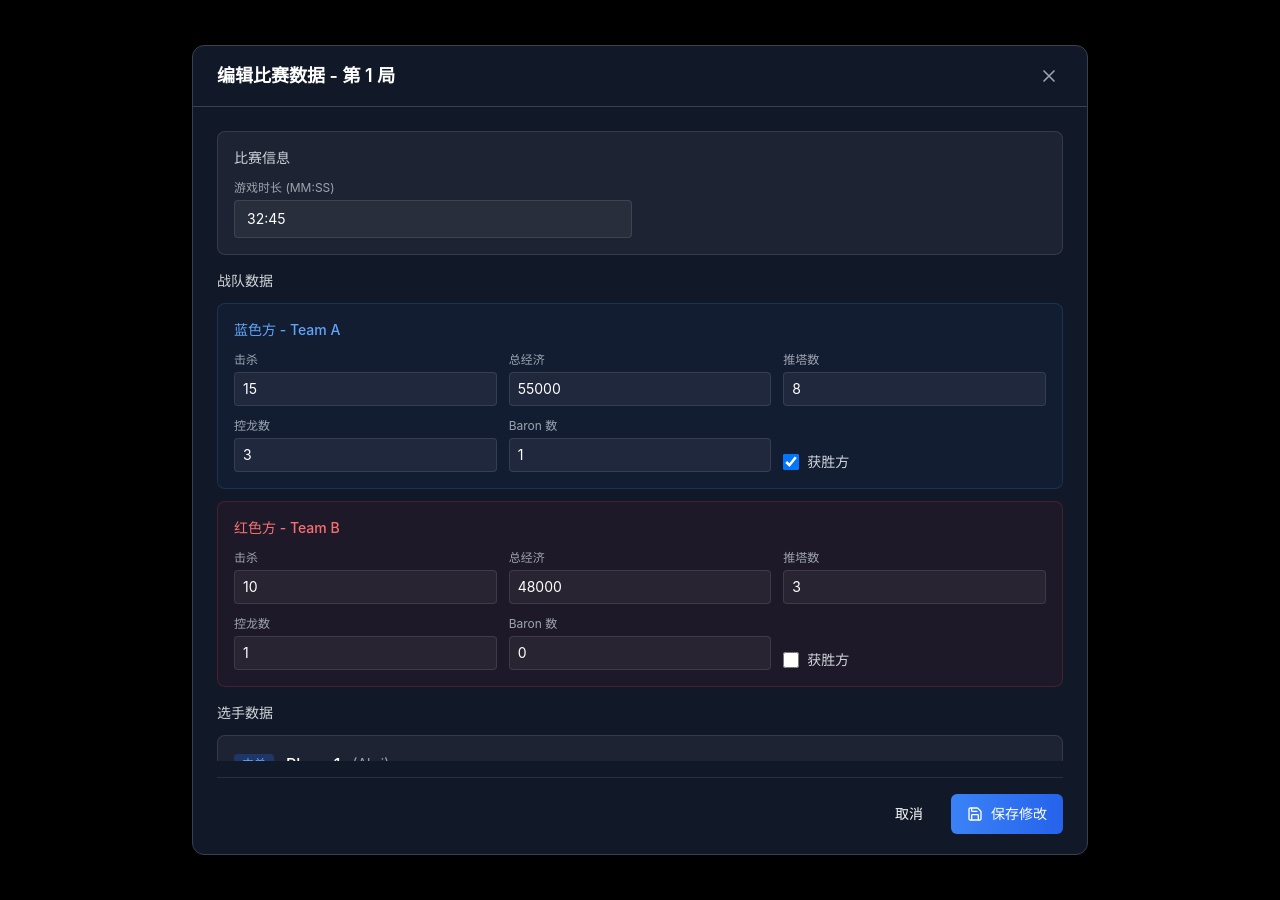
Test: MatchDataEditDialog › shows error message when save fails
The image size is (1280, 900).
Click the button "保存修改" at (1007, 814), box [951, 794, 1063, 834]
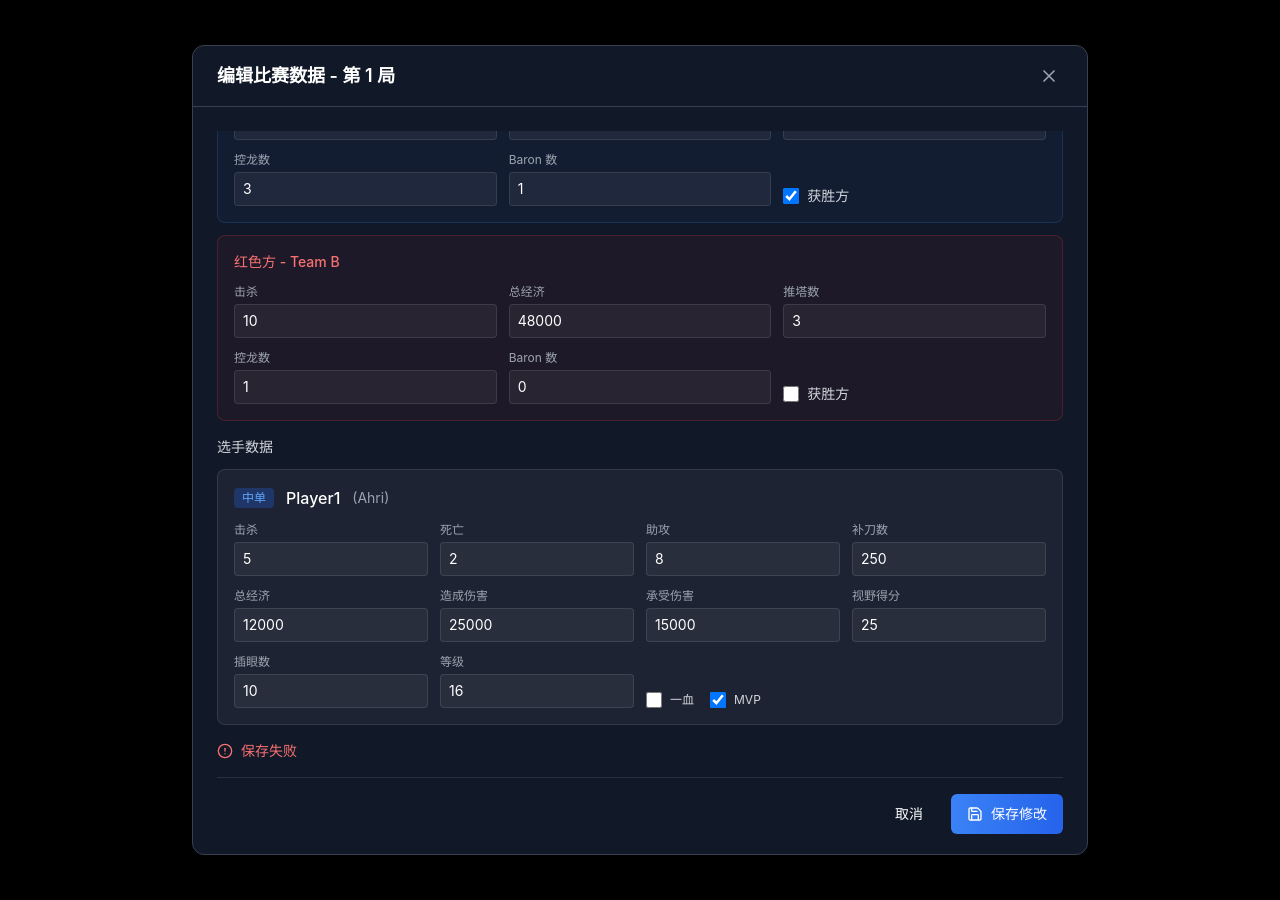
Result: the text "保存失败" is shown at [217, 742, 297, 759]
